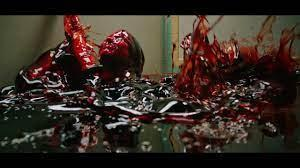Fire: (0, 16, 300, 153)
